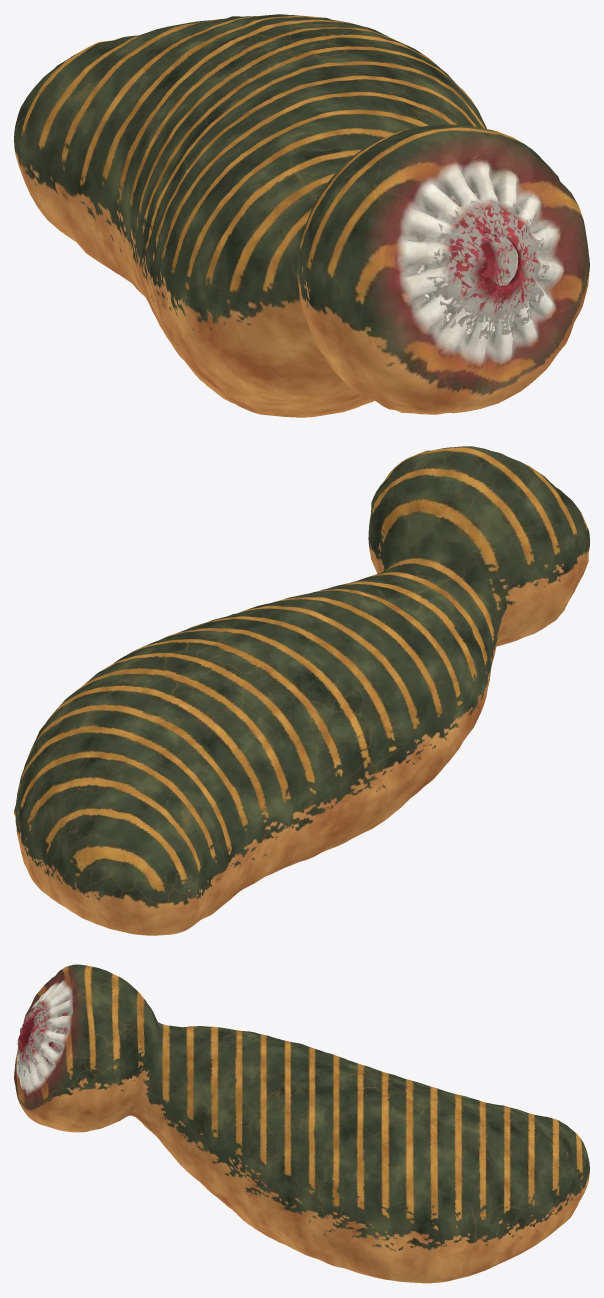
The model's file is boss-leech.glb.
3 renders of one model, top to bottom at view 1: azimuth 30°, elevation 25°; view 2: azimuth 150°, elevation 25°; view 3: azimuth 270°, elevation 25°, orthographic. The views are drawn at different scales.
Visible parts, largest first — view 1: attack-membrane; view 2: attack-membrane; view 3: attack-membrane.
Boxes of the visible parts, x1,y1,x2,y2 form: attack-membrane: (14,14,589,417); attack-membrane: (14,446,589,935); attack-membrane: (14,964,589,1283).
Size of the model in its own units: 1.02 by 0.8717 by 1.99.
1 material, 1 textured.
